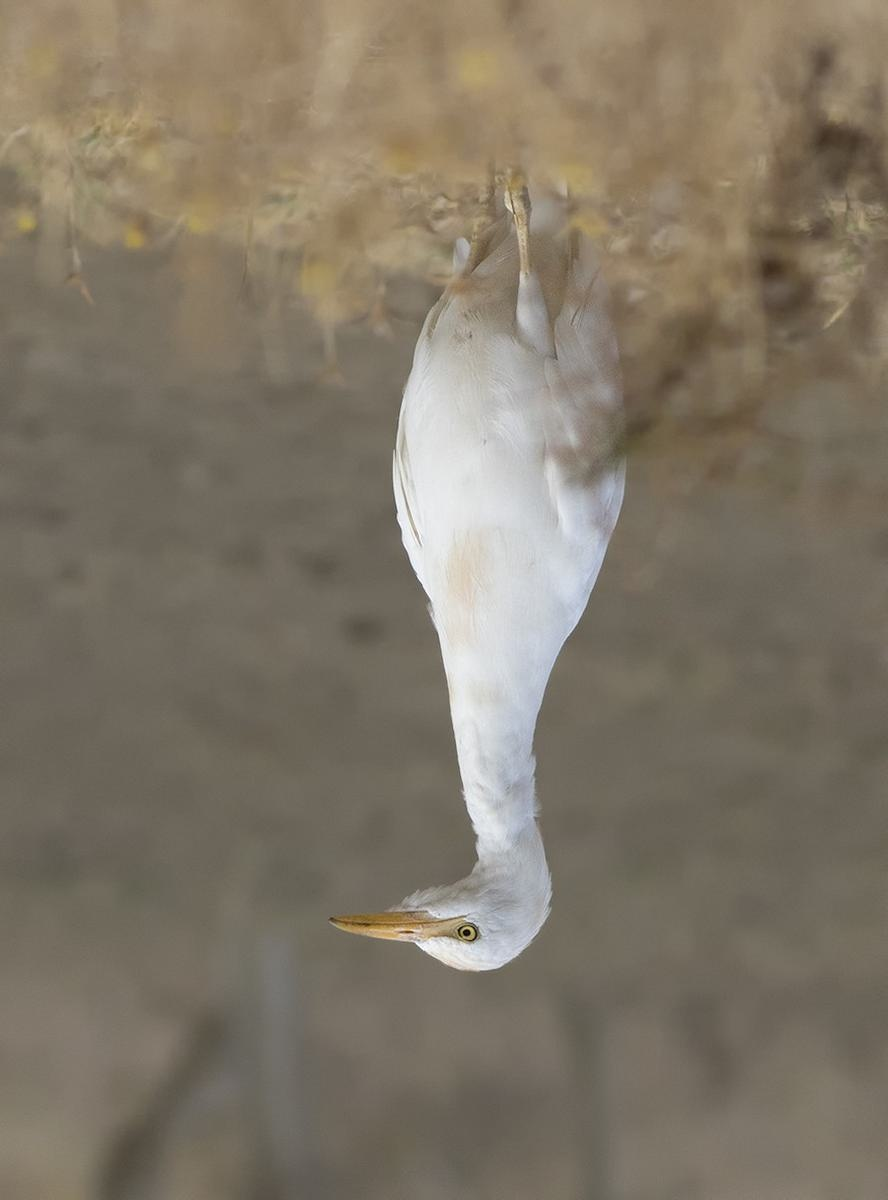egret: (319, 159, 738, 1008)
